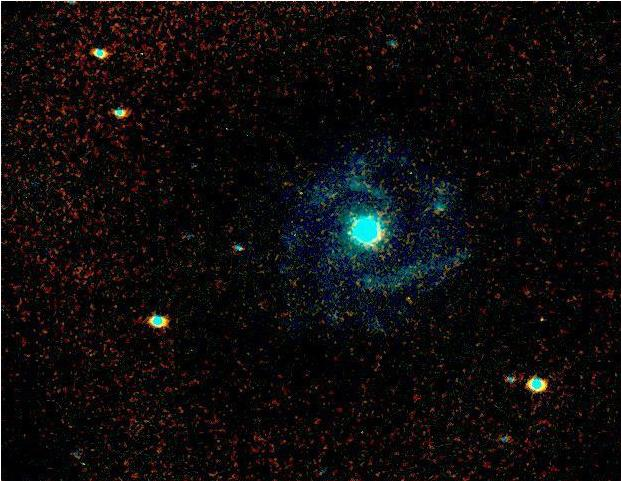star: (335, 219, 365, 249)
